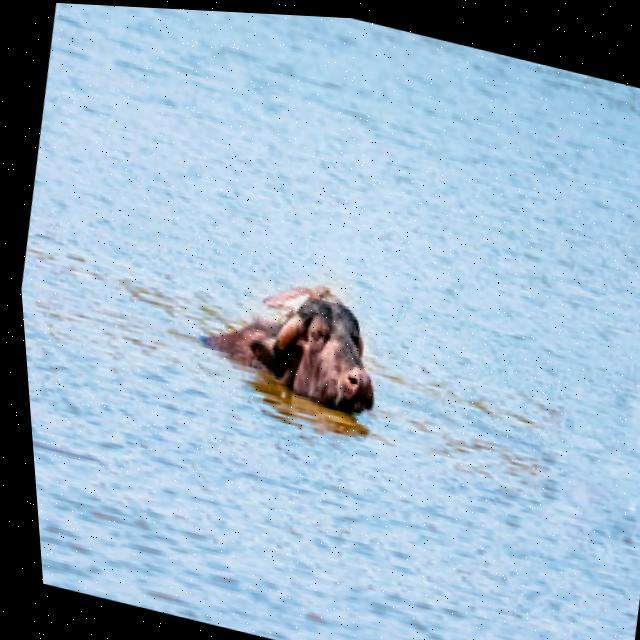Buffalo: (186, 252, 398, 424)
